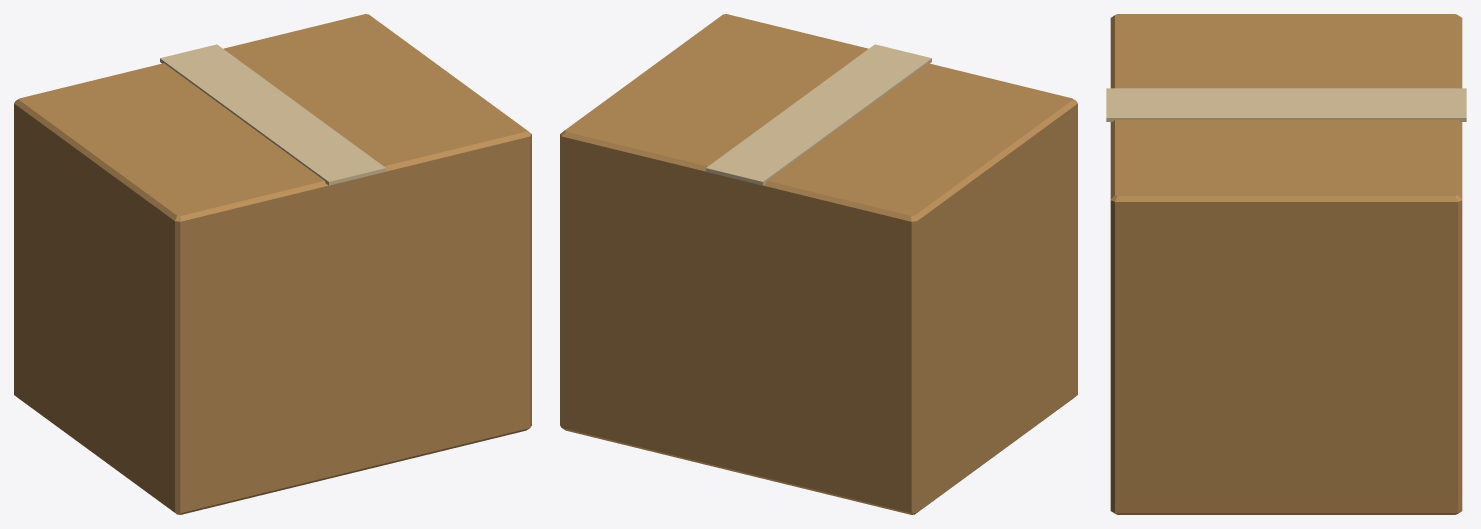
File: cardboard_box.glb
3 renders of one model, left to right at view 1: azimuth 30°, elevation 25°; view 2: azimuth 150°, elevation 25°; view 3: azimuth 270°, elevation 25°, orthographic. The views are drawn at different scales.
Visible parts, largest first — view 1: cardboard_box; view 2: cardboard_box; view 3: cardboard_box.
Boxes of the visible parts, bbox=[...] form: cardboard_box: bbox=[14, 14, 531, 514]; cardboard_box: bbox=[560, 14, 1077, 514]; cardboard_box: bbox=[1106, 14, 1466, 514].
Bounding box in the file's own units: 0.5 × 0.4025 × 0.41.
